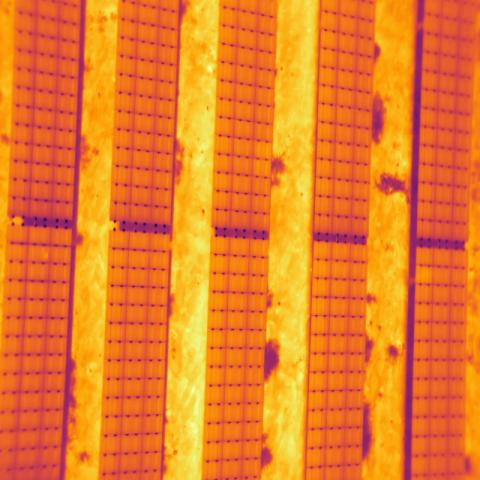fault: (416, 264, 434, 286)
